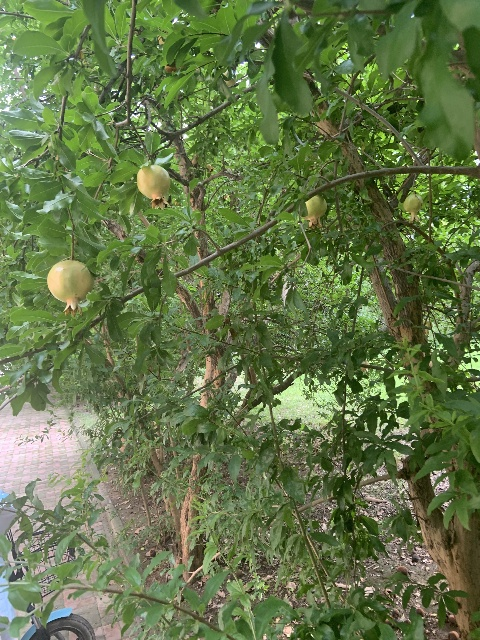mid-growth: (47, 260, 94, 317), (136, 164, 172, 210), (300, 194, 326, 229), (403, 193, 423, 222)
